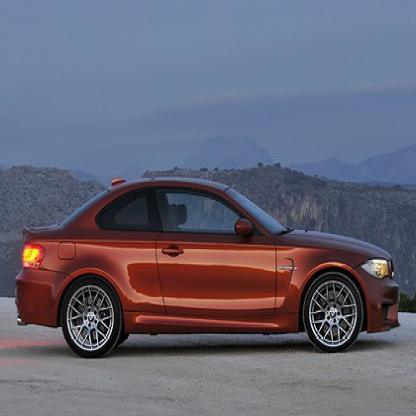Vehicle: (15, 148, 415, 375)
